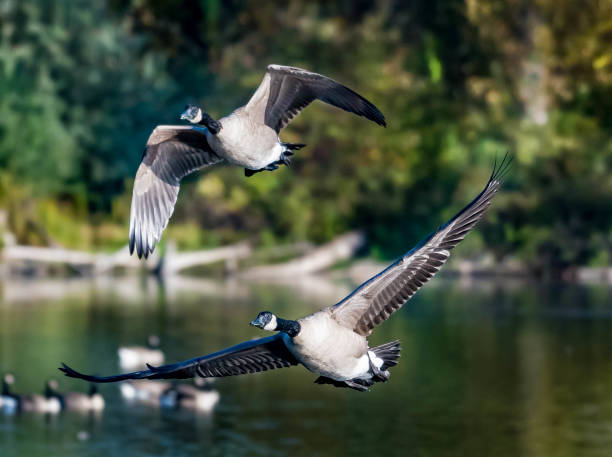goose: (54, 149, 518, 395), (124, 61, 389, 262)
